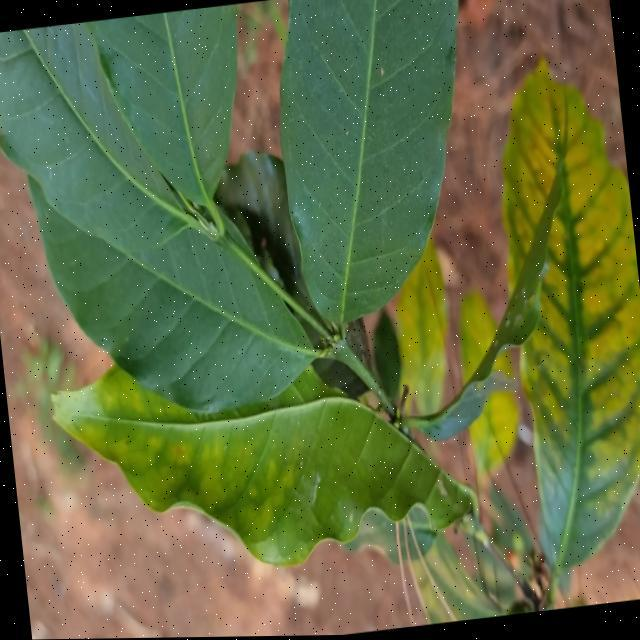leaves: (36, 360, 482, 589), (0, 169, 342, 441), (475, 55, 640, 571), (271, 0, 457, 331), (0, 0, 201, 293)
